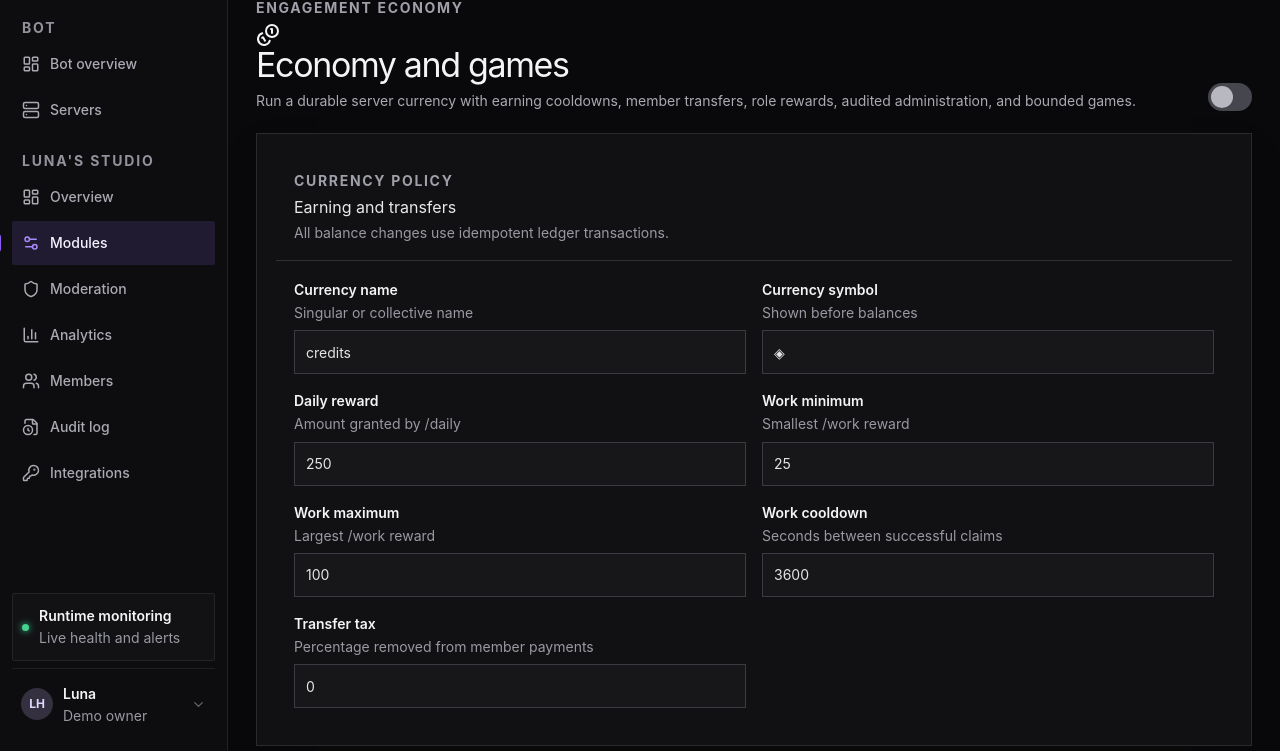
Test case: economy dashboard › configures currency, games, and shop rewards and saves at the bottom
Expected: the heading "Economy and games" is shown, [256, 23, 569, 85]
Replace the text in the field labelled "Currency name Singular or collective name" with "moons" at (520, 352), box [294, 330, 746, 374]
Replace the text in the number field labelled "Daily reward Amount granted by /daily" with "300" at (520, 464), box [294, 442, 746, 486]
(page scrolled)
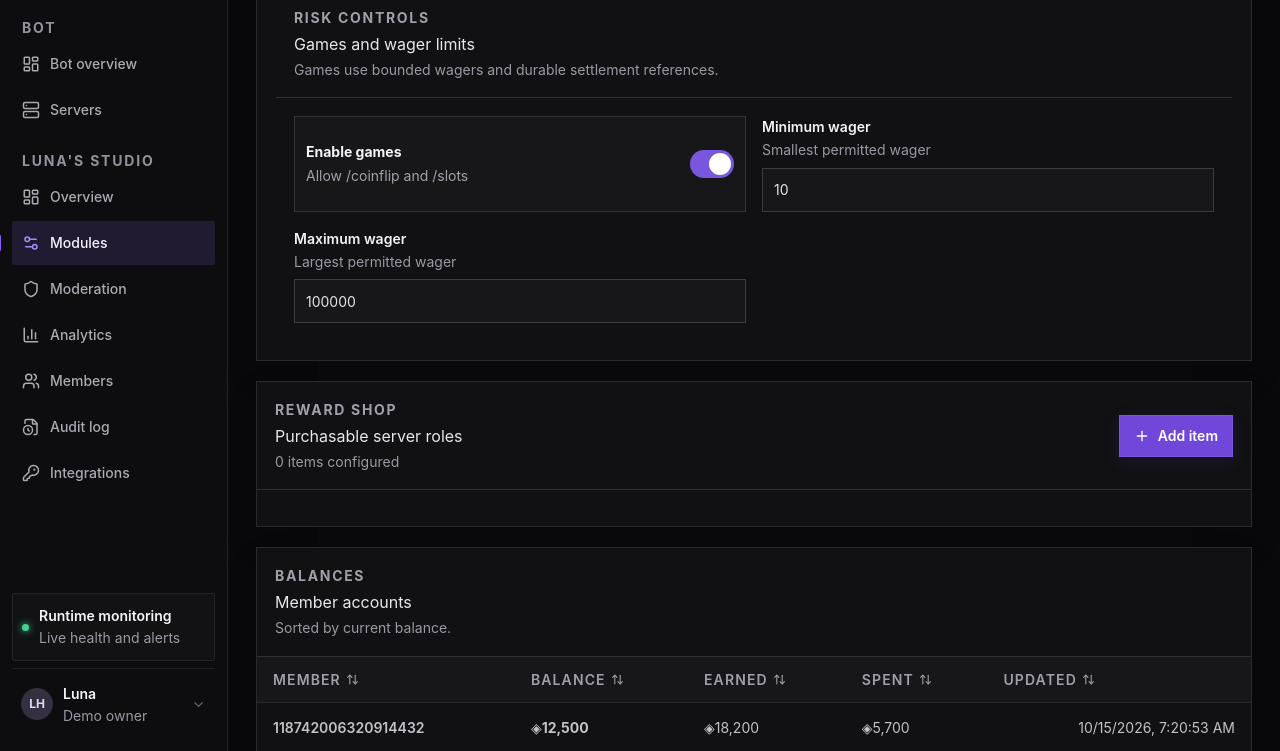
Replace the text in the number field labelled "Maximum wager Largest permitted wager" with "50000" at (520, 301), box [294, 279, 746, 323]
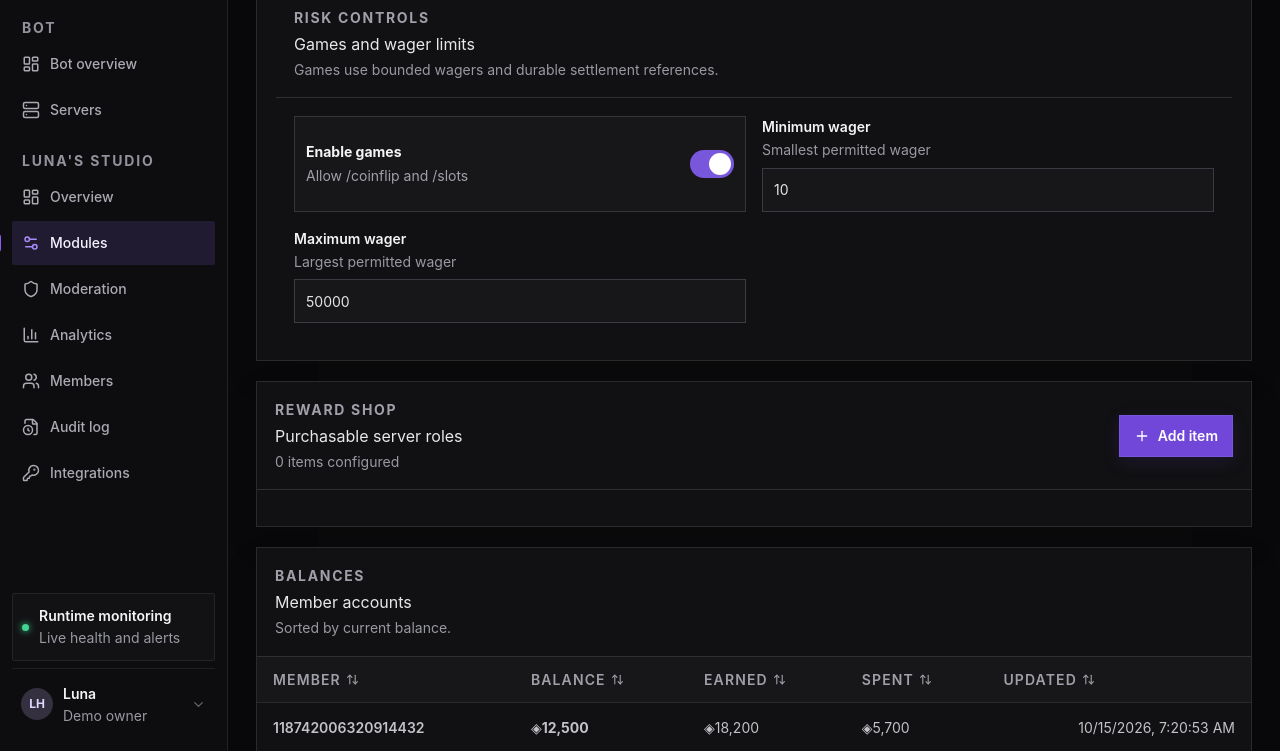
Click the switch named "Enable economy games".
click(712, 164)  # box [690, 150, 734, 178]
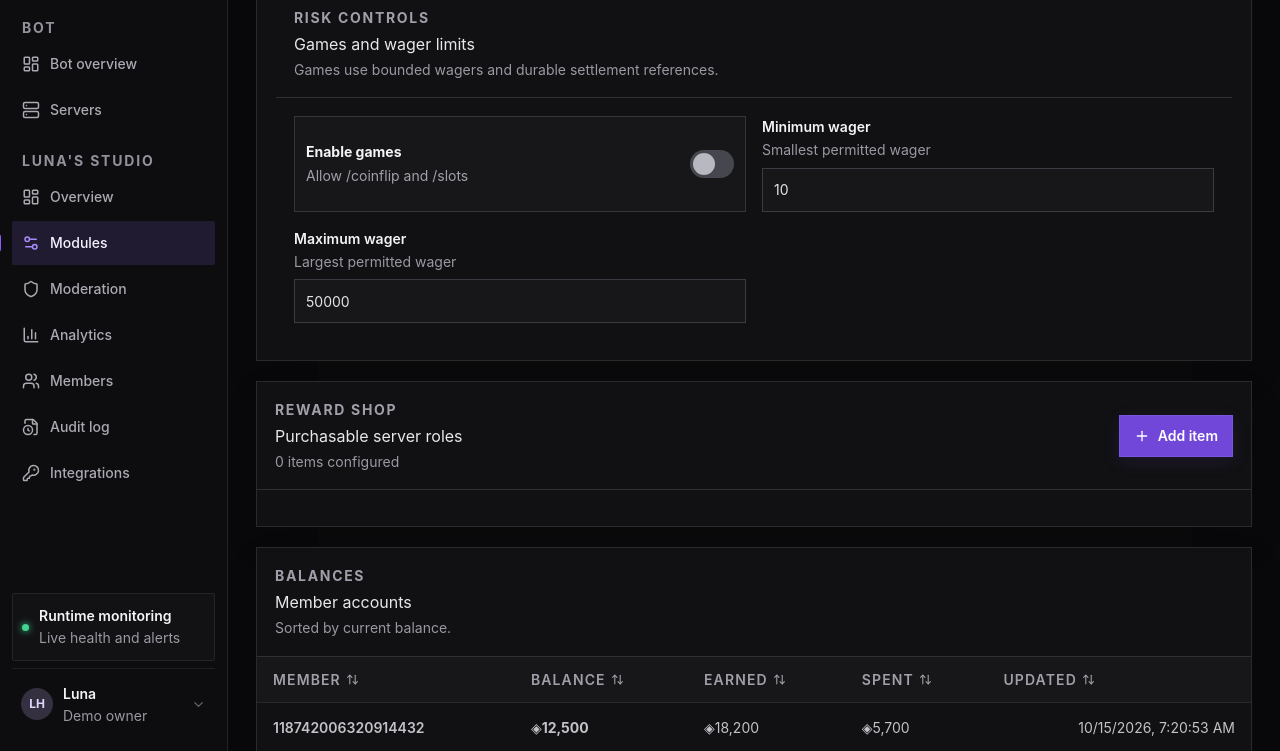
Click the button "Add item".
click(1176, 436)  # box [1119, 415, 1233, 457]
(page scrolled)
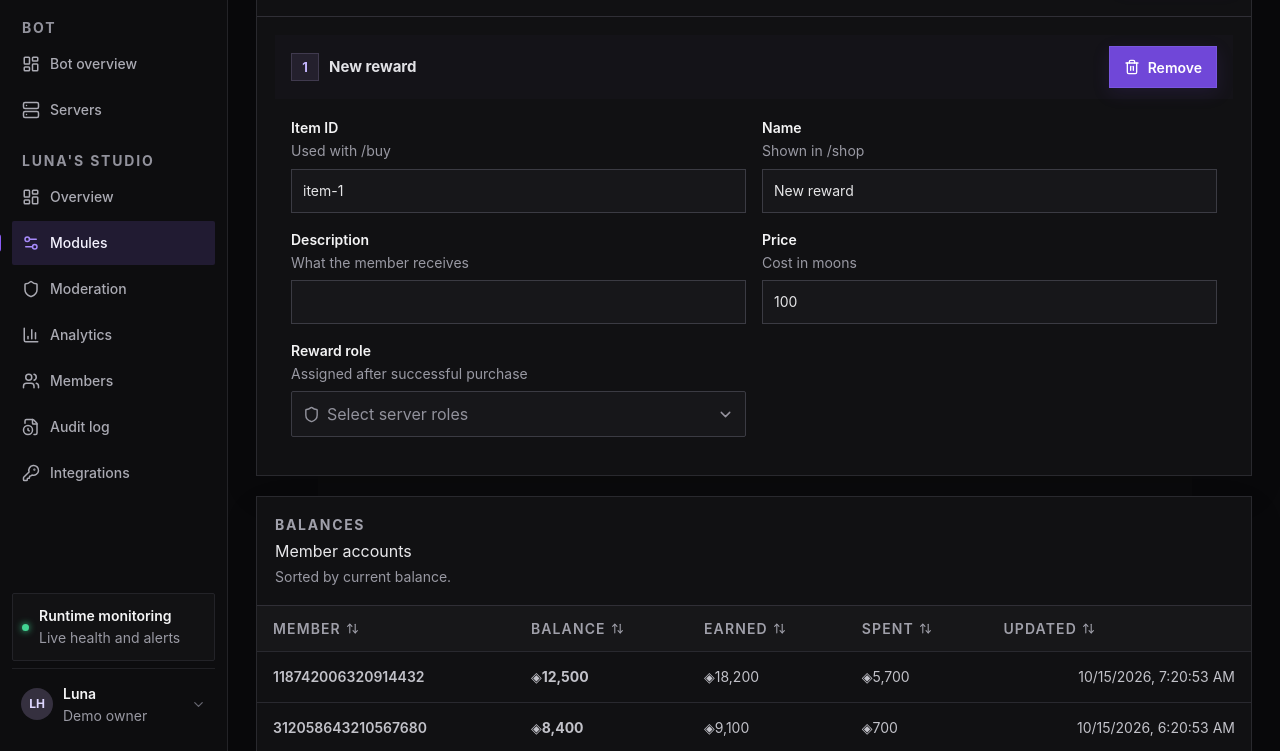
Expected: the text "New reward" is shown, [329, 56, 417, 79]
Replace the text in the number field labelled "Price Cost in moons" with "750" at (990, 302), box [762, 280, 1217, 324]
(page scrolled)
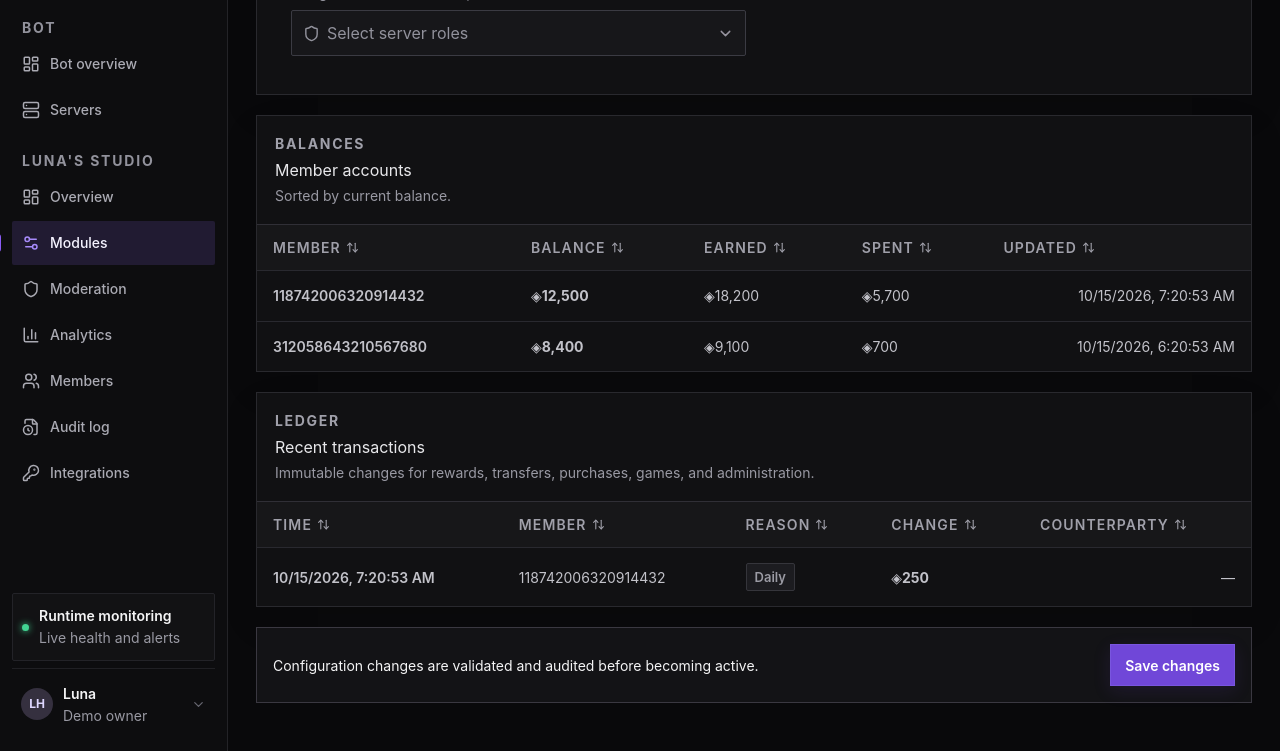
Click the button "Save changes".
click(1173, 665)  # box [1110, 644, 1235, 686]
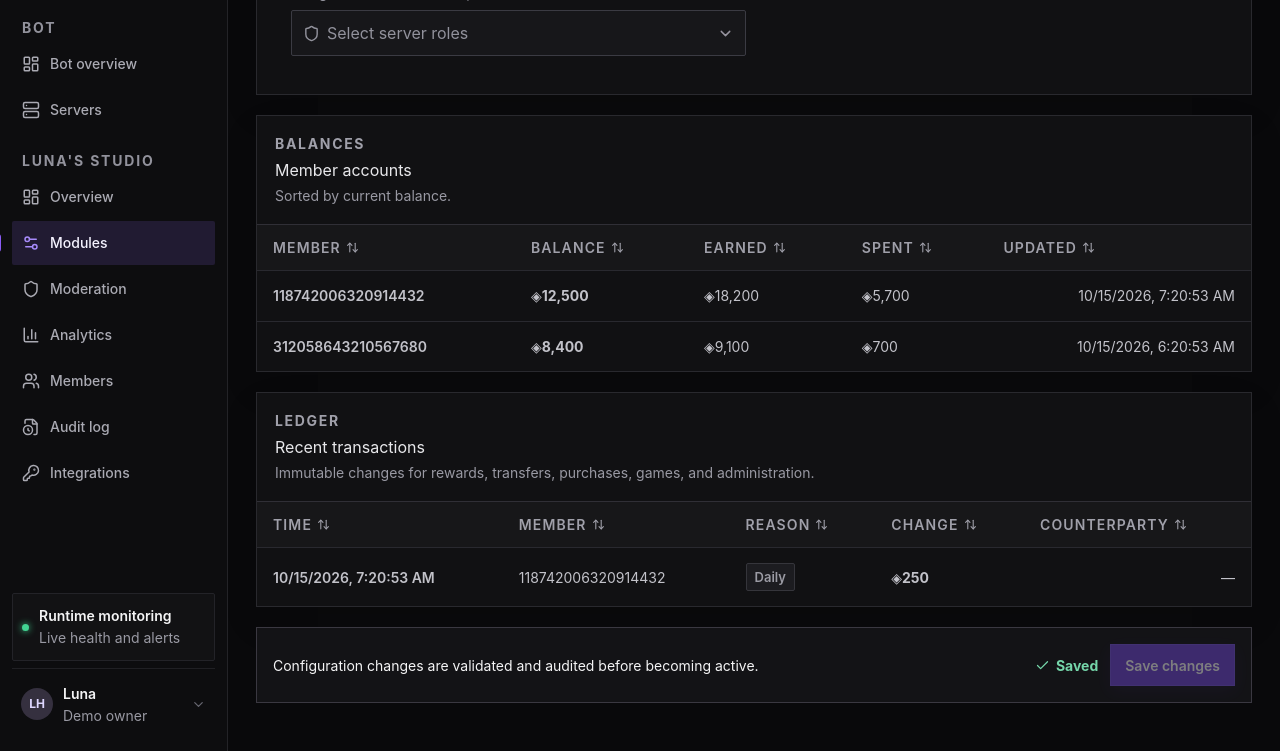
Expected: the text "Saved" is shown, [1035, 655, 1098, 676]
